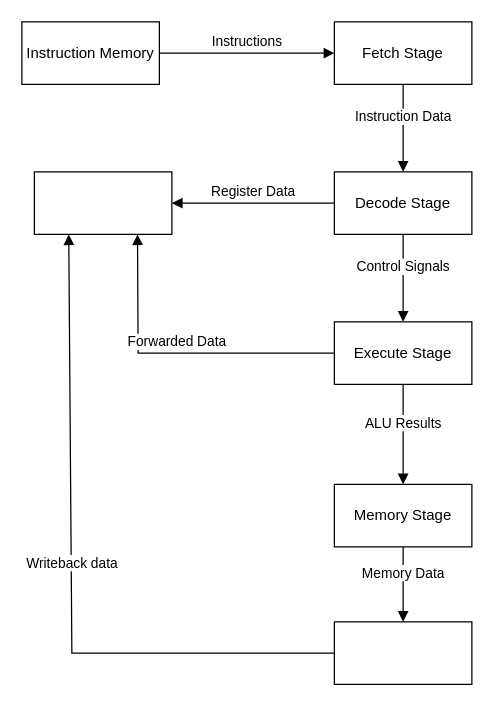
Image size: 494x706. Some labels were removed from this diagram. Each missing label, with the centre of its shape:
Register File: pixel 102 202
WriteBack Stage: pixel 402 652
